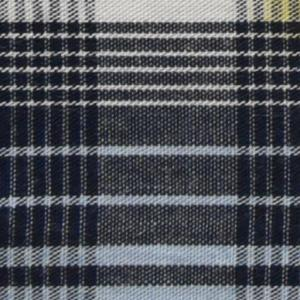Stain: (257, 1, 300, 40)
